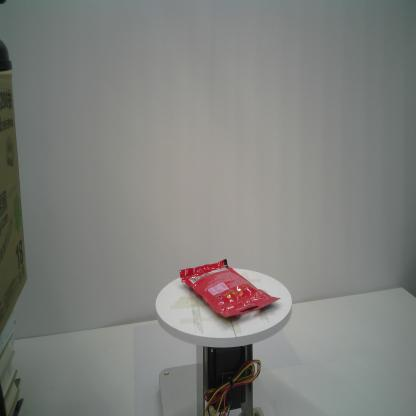Candy: (178, 258, 282, 320)
